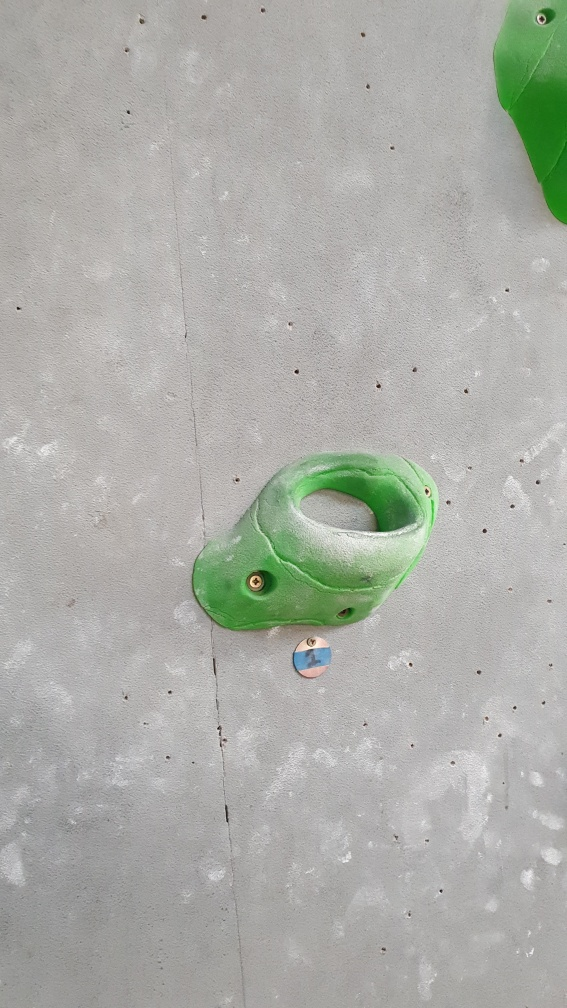Hand Start: (289, 634, 333, 684)
Pocket: (188, 444, 441, 642)
